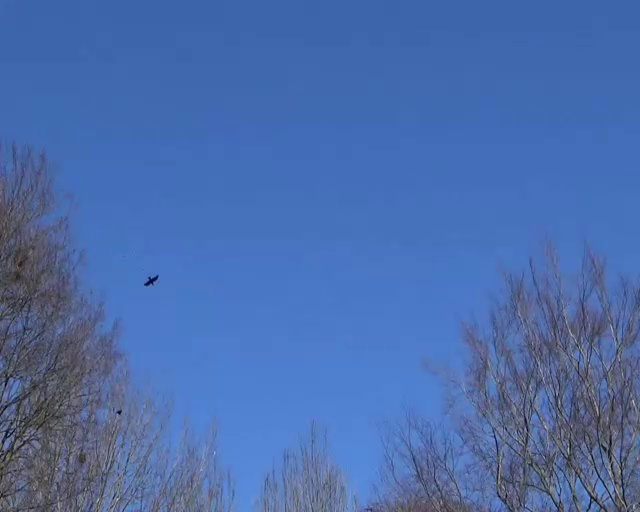BIRD: (144, 274, 159, 286)
